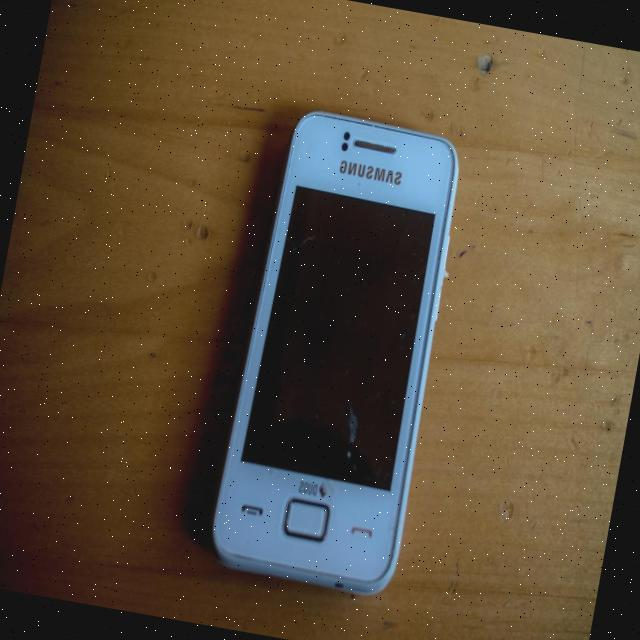Phone: (202, 102, 473, 598)
